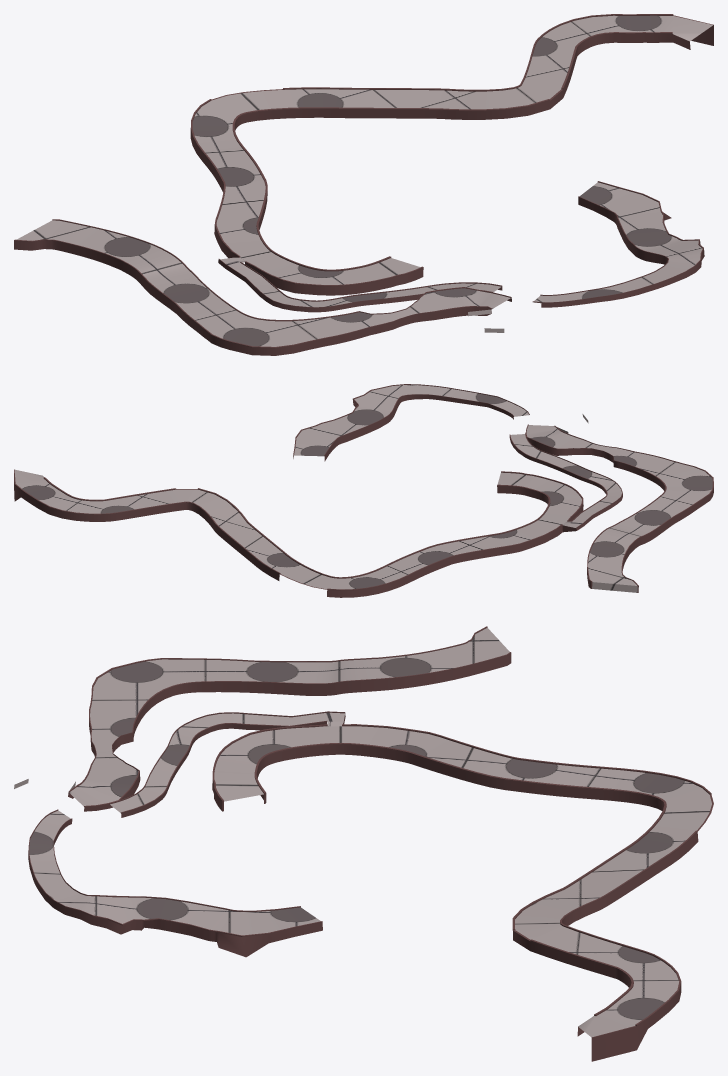
3 renders of one model, top to bottom at view 1: azimuth 30°, elevation 25°; view 2: azimuth 150°, elevation 25°; view 3: azimuth 270°, elevation 25°, orthographic. The views are drawn at different scales.
Parts seen in each view (by area): view 1: Loft001, Object022; view 2: Loft001, Object022; view 3: Loft001, Object022.
Part boxes in pixels (left/top/right/bottom): Loft001: left=16, top=15, right=712, bottom=346; Object022: left=14, top=14, right=713, bottom=355; Loft001: left=14, top=385, right=712, bottom=592; Object022: left=14, top=384, right=713, bottom=597; Loft001: left=14, top=628, right=711, bottom=1037; Object022: left=28, top=626, right=713, bottom=1061.
Bounding box in the file's own units: 78.48 × 3.46 × 56.53.
